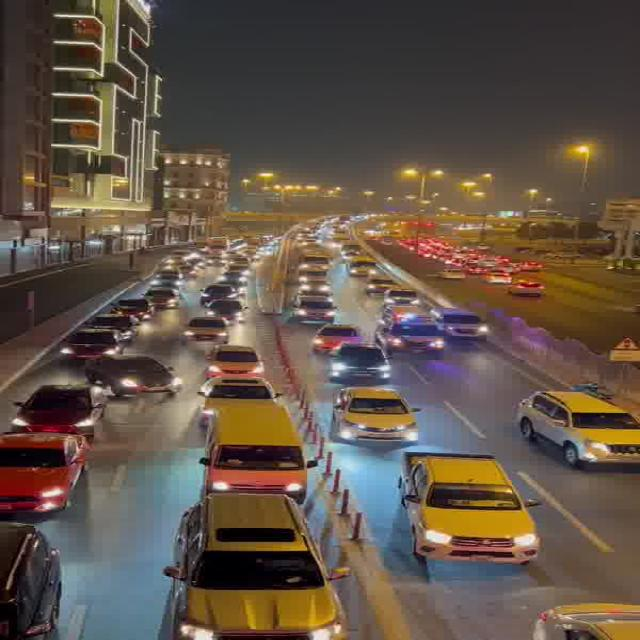ambulance: (374, 300, 446, 355)
